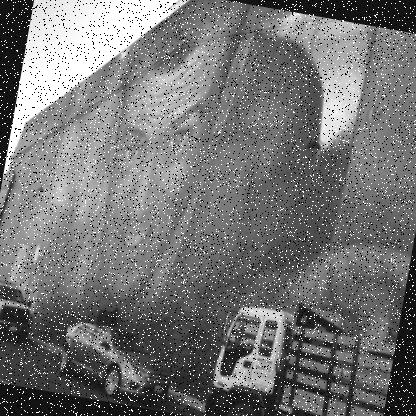Car: (56, 320, 176, 407), (0, 269, 46, 344)
